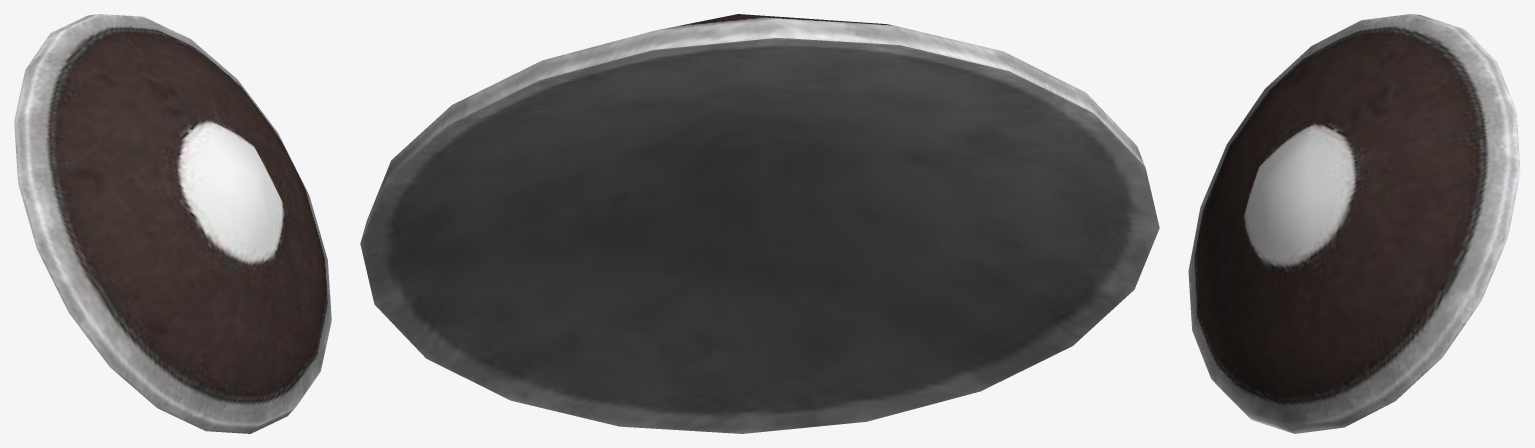
The model's file is shield-coppershields.glb.
3 renders of one model, left to right at view 1: azimuth 30°, elevation 25°; view 2: azimuth 150°, elevation 25°; view 3: azimuth 270°, elevation 25°, orthographic. The views are drawn at different scales.
Bounding box in the file's own units: 0.4073 × 0.3746 × 0.3377.
1 material, 1 textured.
